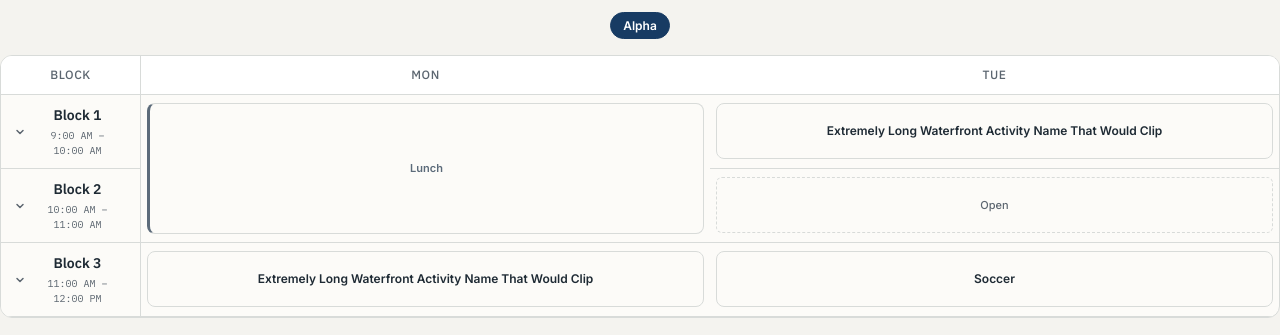
Test case: ManualBuildView — CSS Grid conversion (T56) › T112 — double-click on an empty cell opens the inline editor
Step 1. Double-click the cell "Open" → (994, 206), box x1=710 y1=169 x2=1279 y2=243
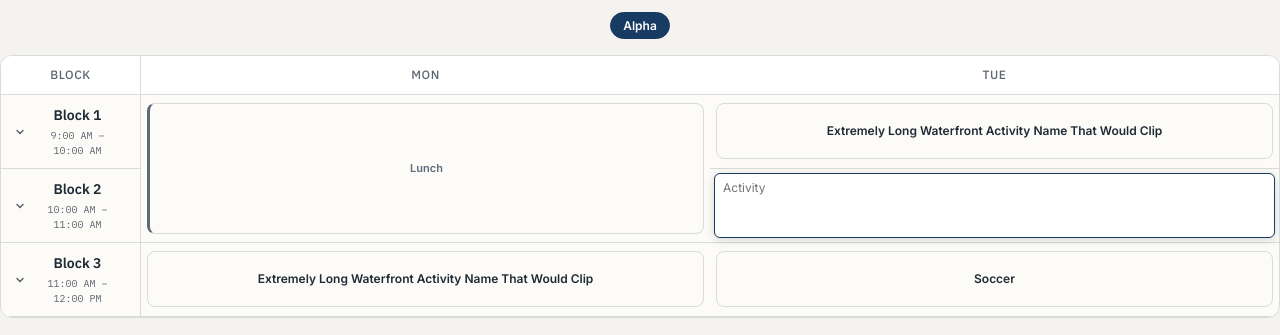
Expected: the field with class "cell-inline-editor-input" is shown, x1=715 y1=174 x2=1274 y2=201
